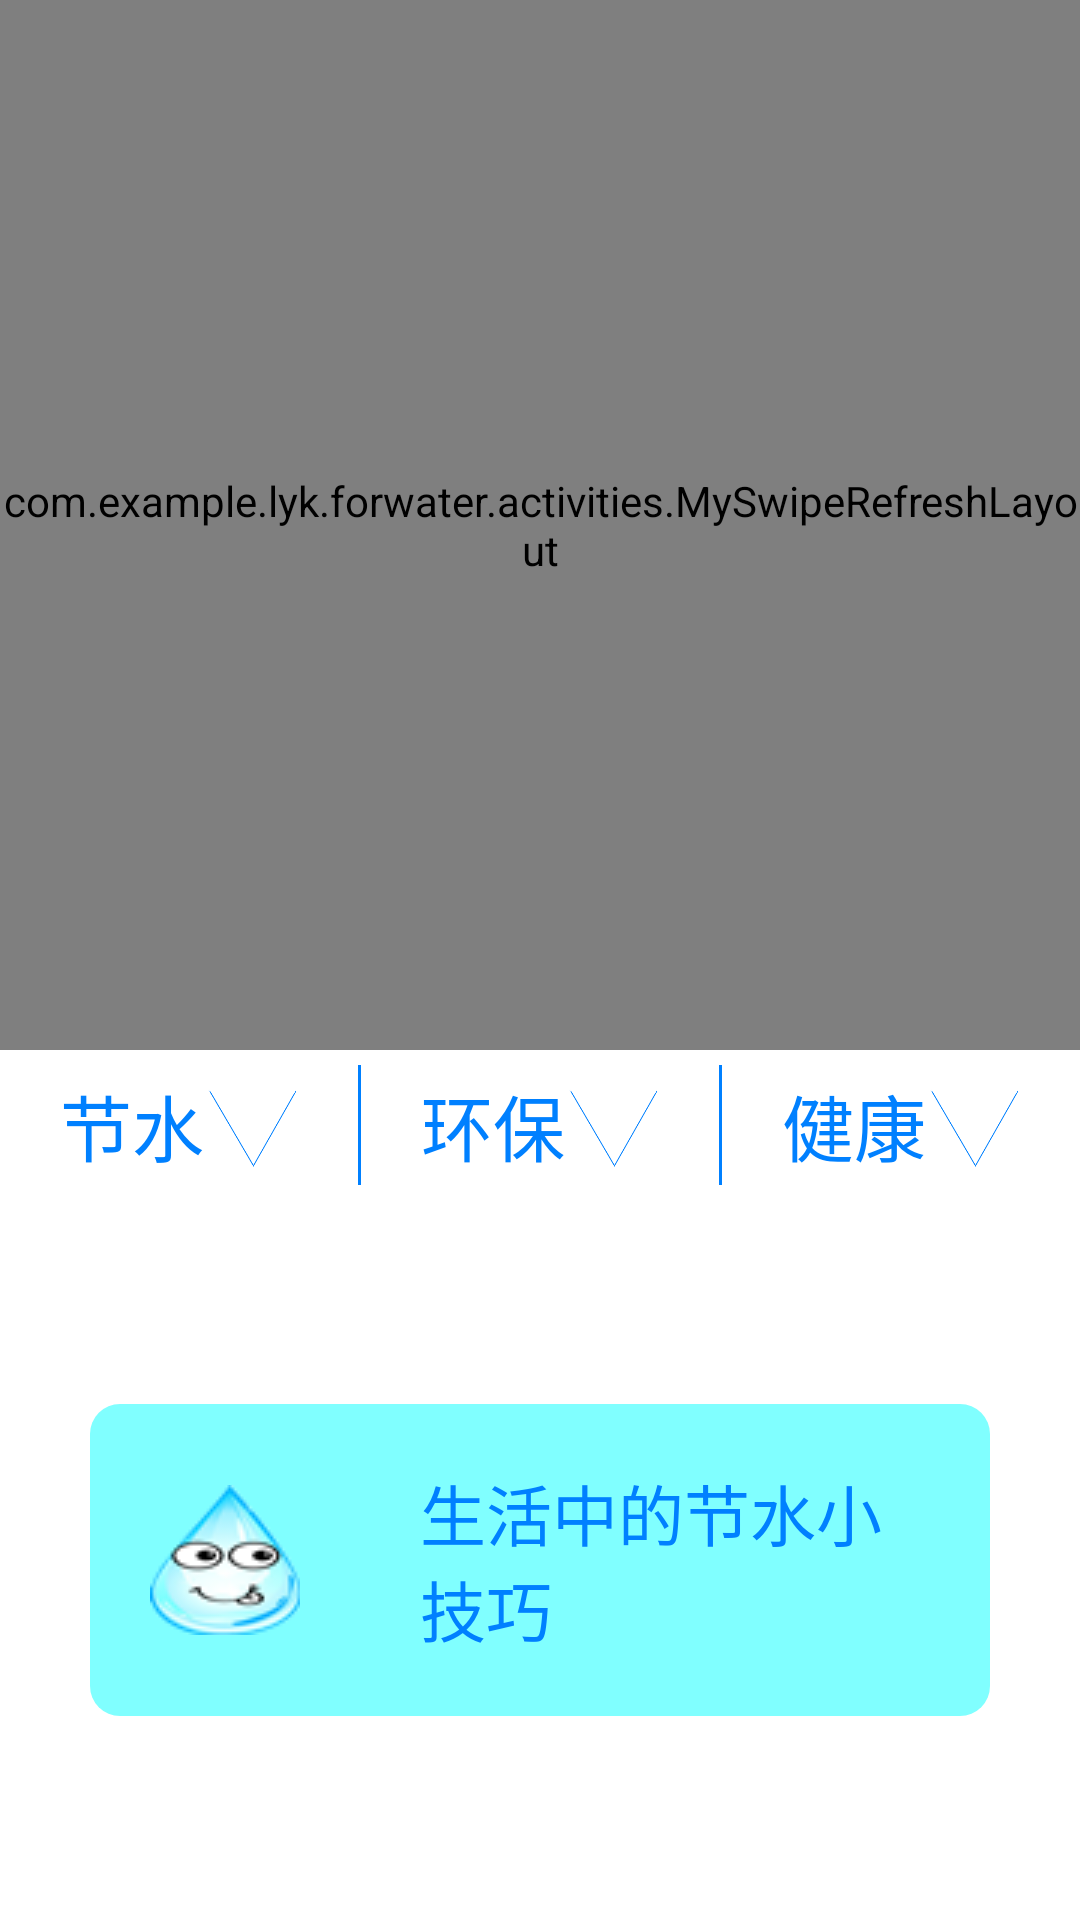

Named icons in this screenshot (1080 x 1920) and their bounding boxes, rect(x1, y1, x2, y2):
down: rect(209, 1091, 296, 1167), rect(570, 1091, 657, 1167), rect(931, 1091, 1018, 1167)
iwater: rect(150, 1485, 300, 1635)
